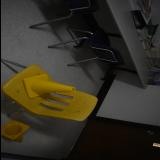cone: (21, 73, 76, 99), (0, 119, 30, 143)
